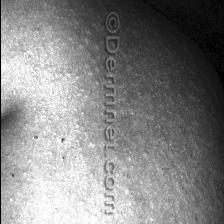Toxin: (28, 0, 100, 184), (121, 36, 197, 208)
